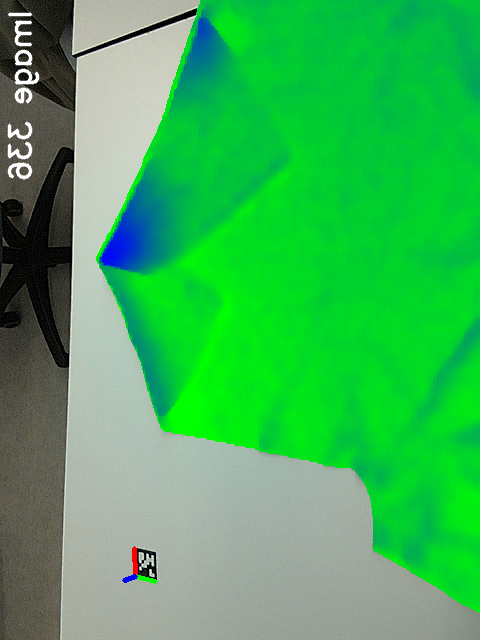V: (237, 108, 303, 182), (181, 266, 239, 334)
